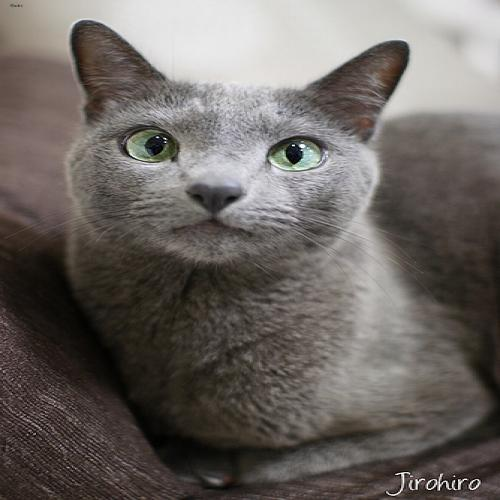rblue: (63, 17, 417, 268)
